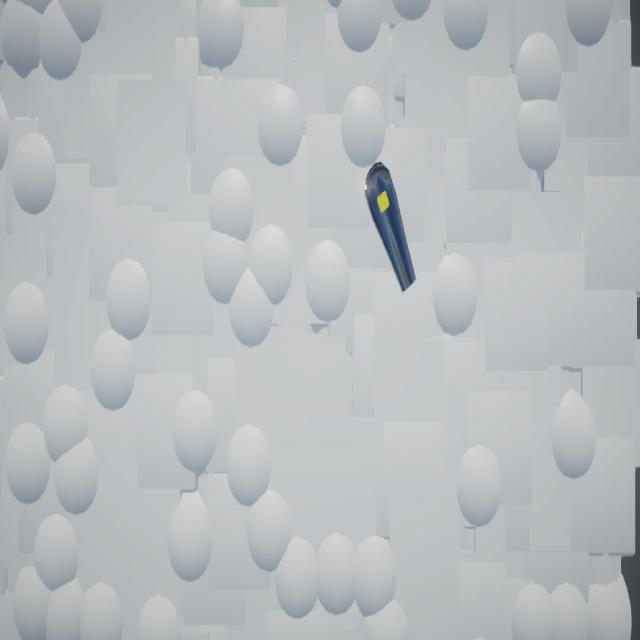handle_knife: (365, 162, 418, 295)
